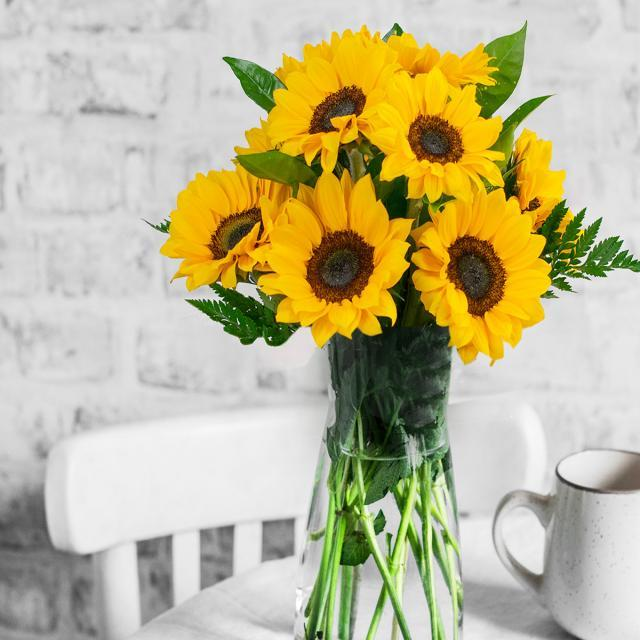sunflower: (256, 168, 414, 348), (410, 186, 552, 366), (366, 66, 505, 203), (266, 36, 402, 173), (159, 161, 290, 292), (500, 126, 588, 272), (386, 31, 500, 92), (269, 24, 382, 84), (234, 116, 285, 155)
